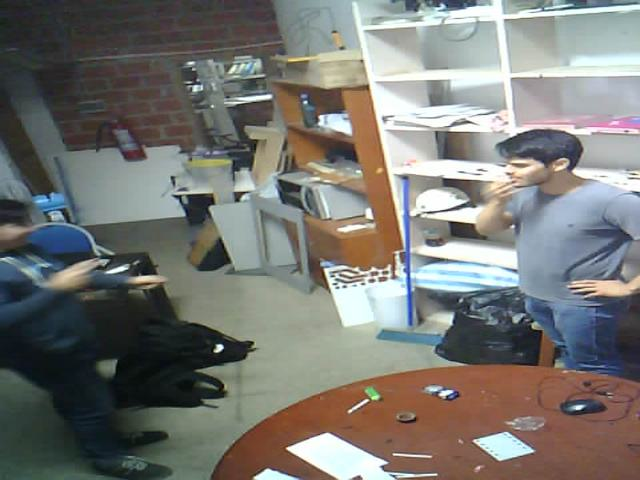person: (0, 163, 261, 480), (467, 92, 640, 394)
